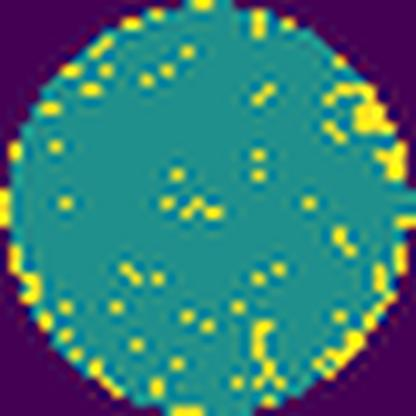Edge-Loc: (314, 265, 397, 381), (320, 81, 398, 137), (370, 137, 414, 185)
